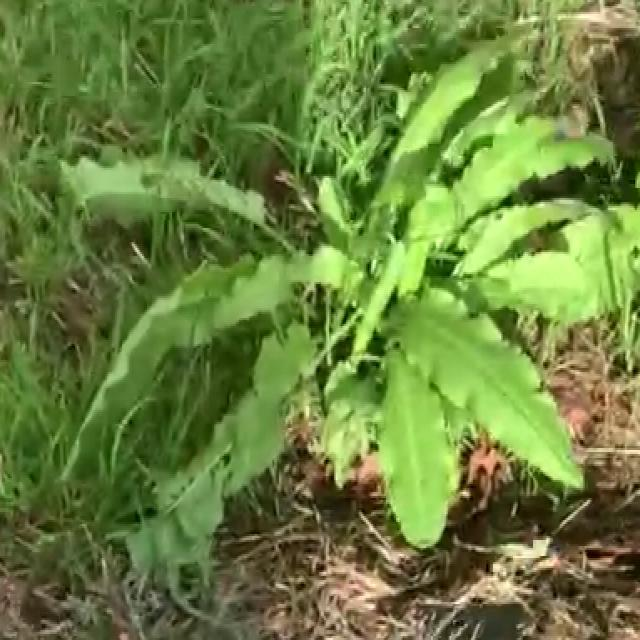organic waste: (100, 26, 635, 554)
